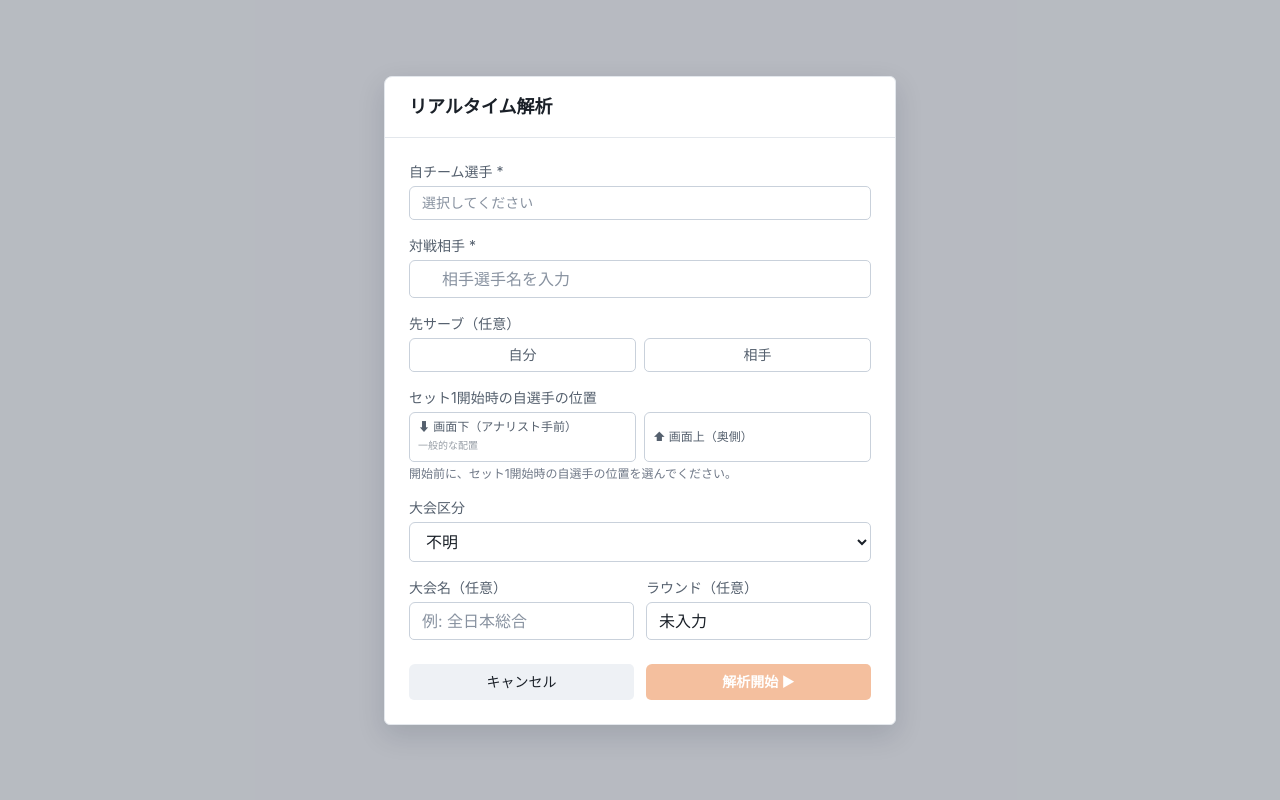
QuickStartModal opponent search failure › offers provisional registration again once the retry succeeds with 0 candidates
Type "山田" into the field with placeholder "相手選手名を入力" at (640, 278), box x1=409 y1=260 x2=871 y2=298
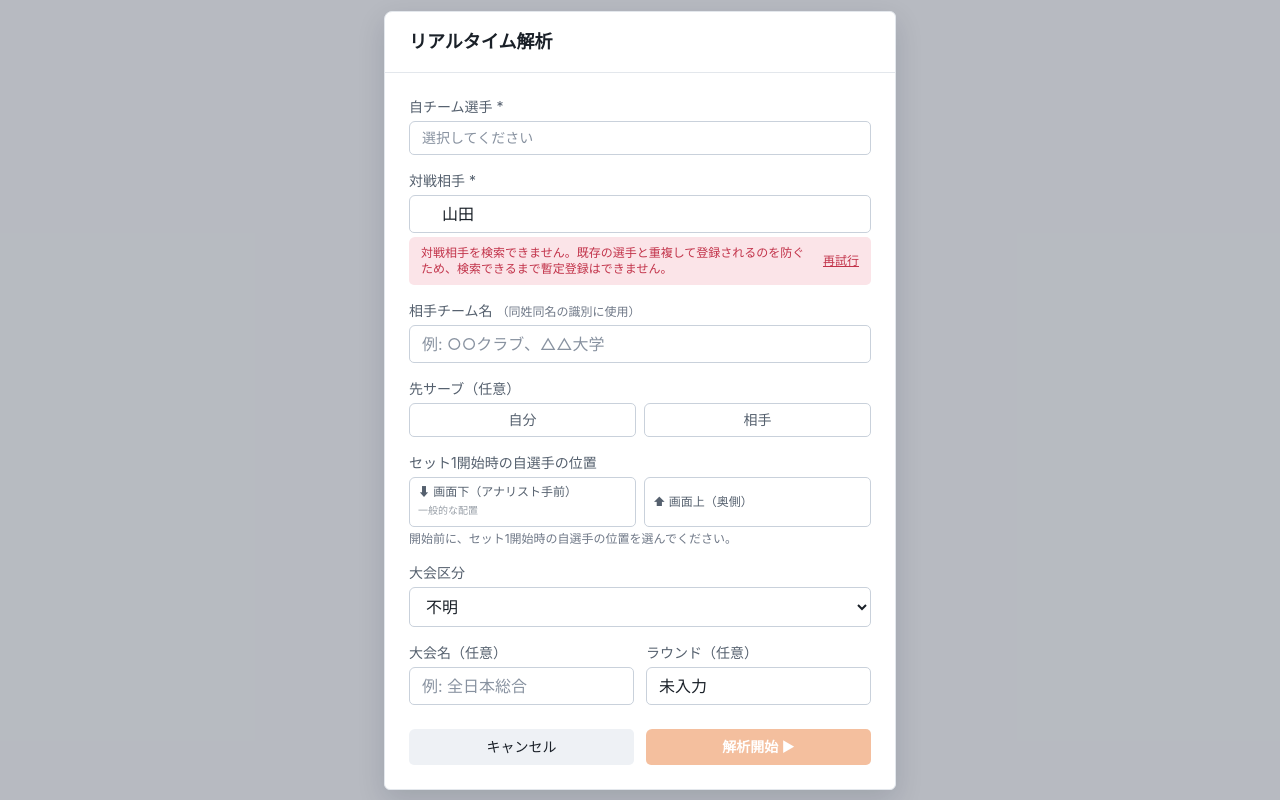
Click the button "再試行" at (841, 260), box x1=823 y1=252 x2=859 y2=268
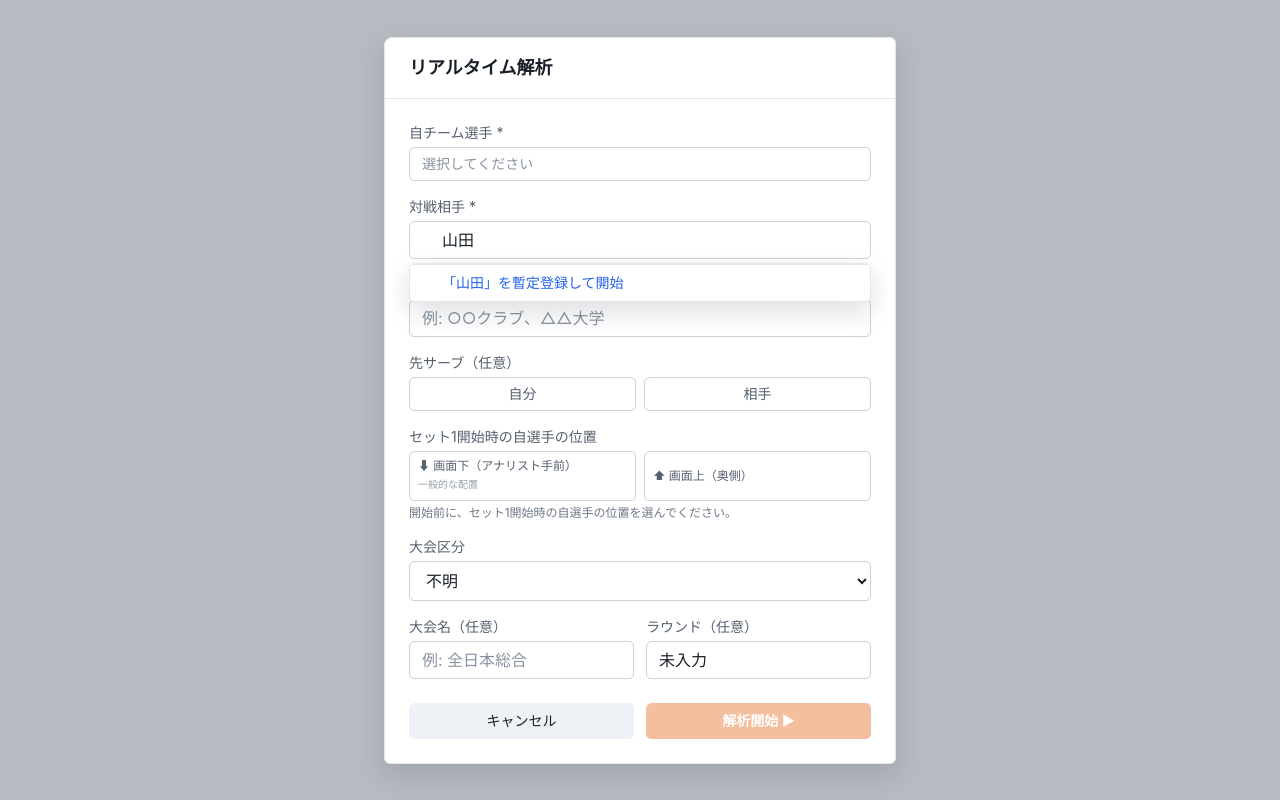
Expected: the text "「山田」を暫定登録して開始" is shown, x1=442 y1=272 x2=624 y2=292
Expected: the message "対戦相手を検索できません。既存の選手と重複して登録されるのを防ぐため、検索できるまで暫定登録はできません。 再試行" is gone
